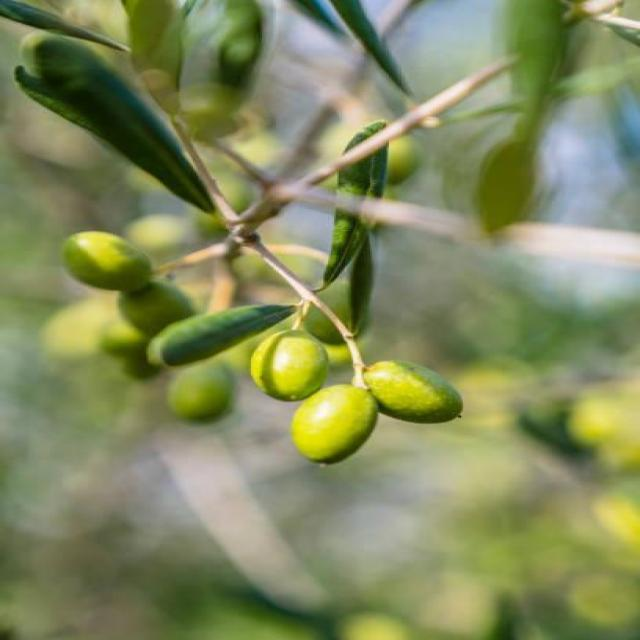Healthy: (16, 36, 213, 212), (149, 305, 295, 366), (292, 385, 376, 463), (365, 361, 460, 422), (251, 329, 326, 401), (64, 231, 152, 291)
